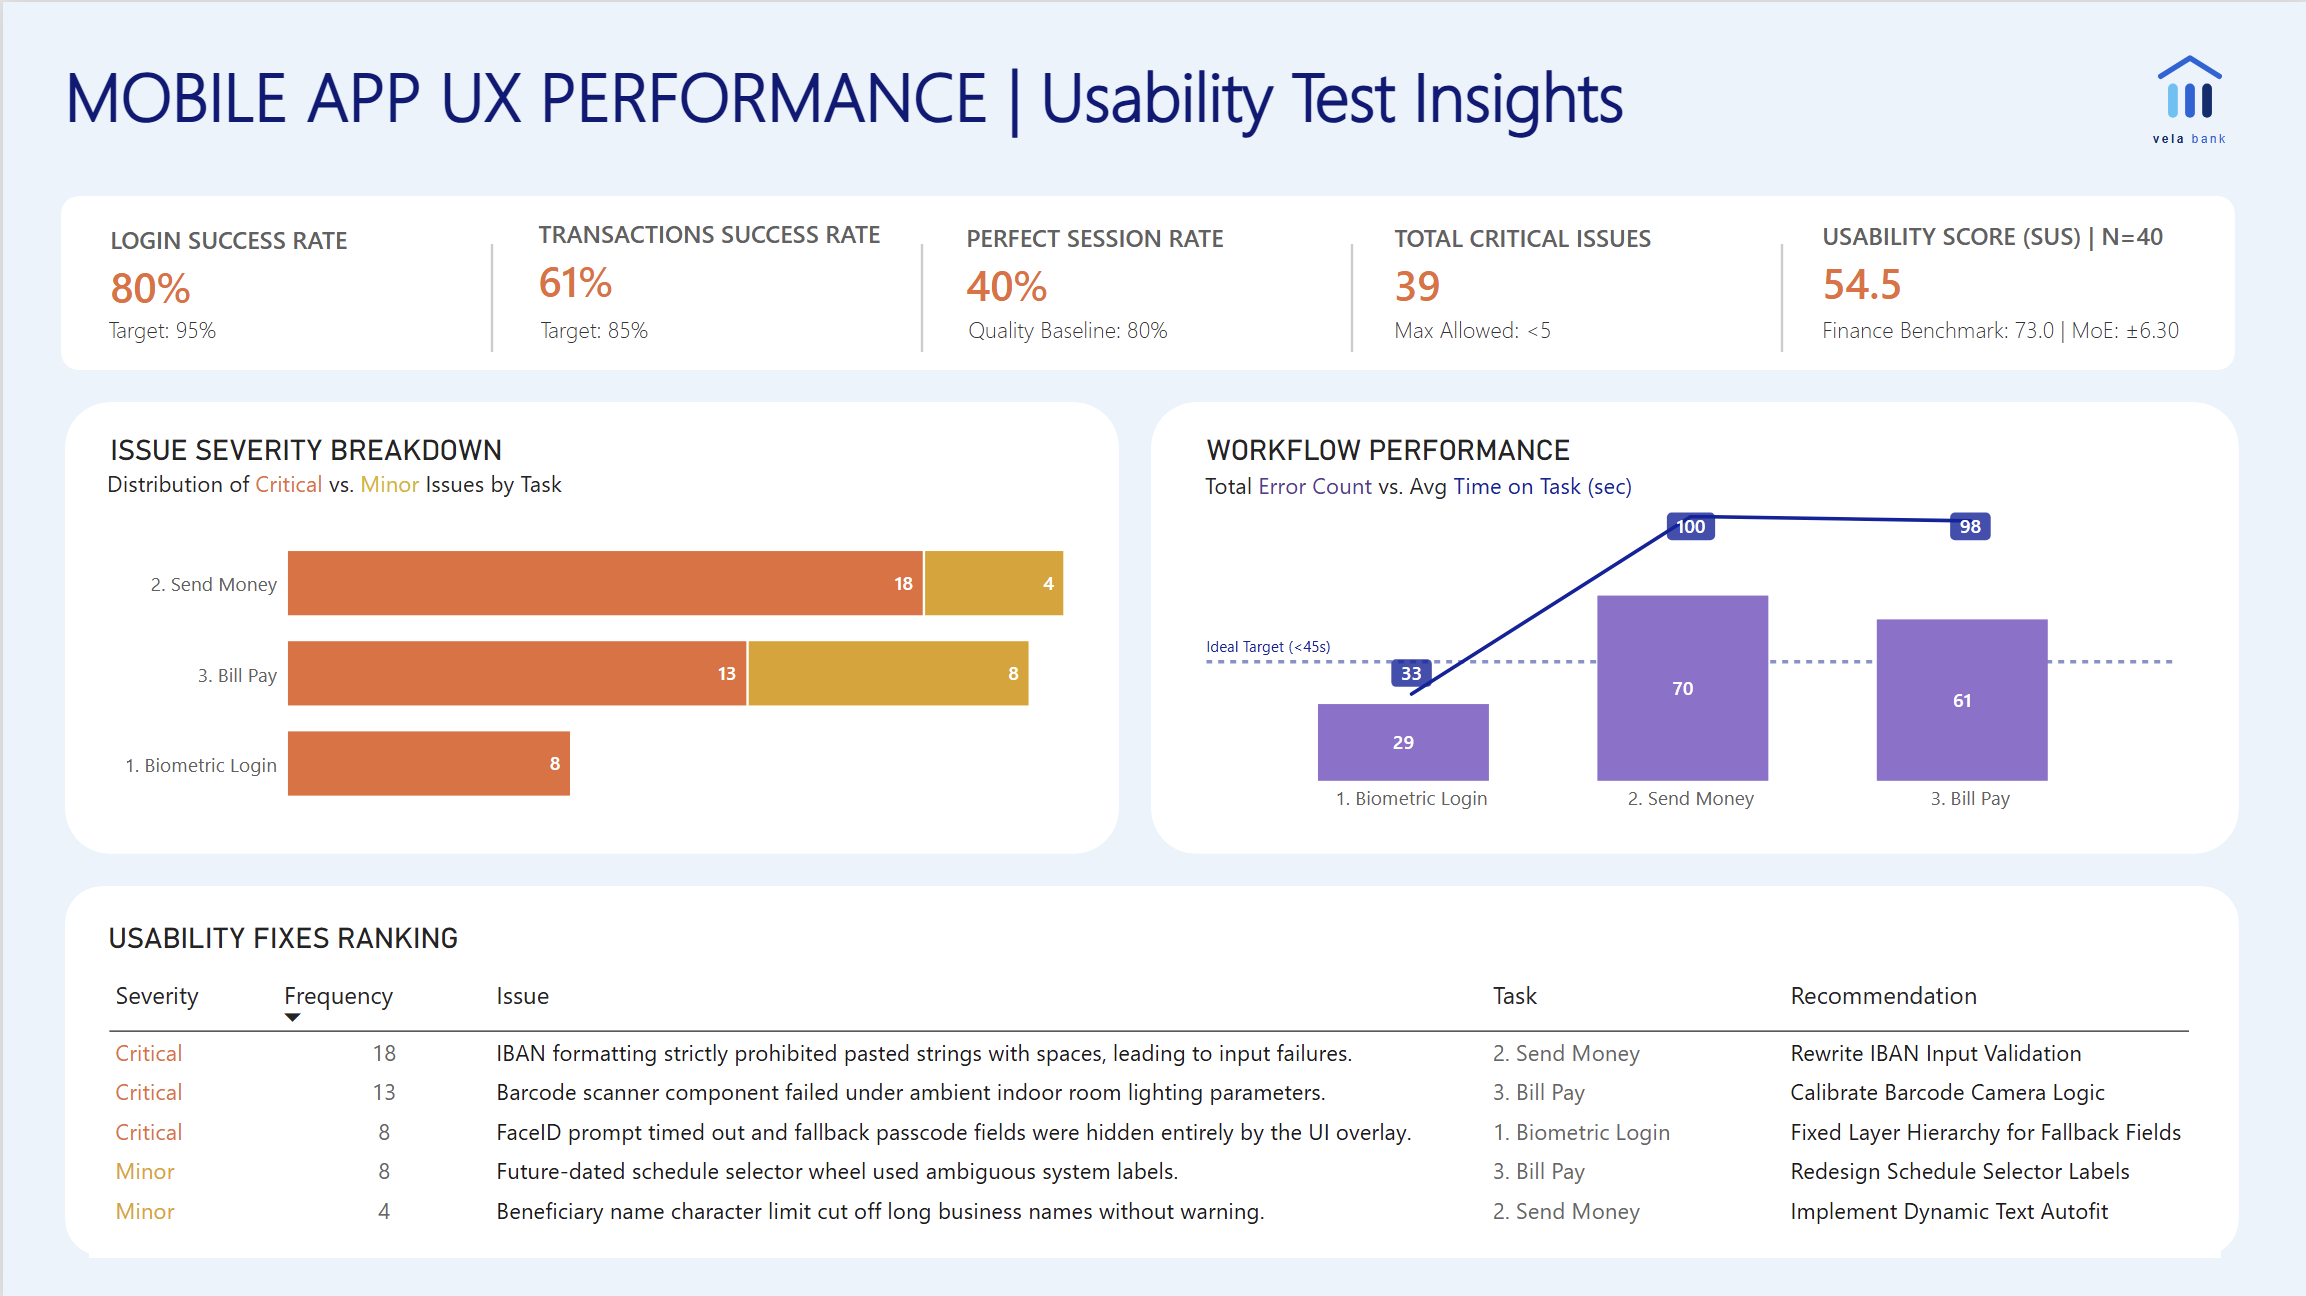

The dashboard page shown, as its layout file describes it:
{"tool":"powerbi","page":{"name":"Executive Summary","canvas":[1920,1080],"ordinal":0},"visuals":[{"type":"textbox","box":[52,38,1732,96],"z":0},{"type":"shape","box":[48.3,161.7,1811.7,145],"z":1000},{"type":"shape","box":[51,334.2,878.3,376.7],"z":2000},{"type":"shape","box":[956,333.3,906.7,376.7],"z":3000},{"type":"shape","box":[51,736.7,1811.7,308.3],"z":3000,"group":"g1"},{"type":"cardVisual","title":"TIME ON TASK","fields":{"Data":["task_performance.login_success_rate"]},"box":[73.2,180.2,326,85],"z":4000},{"type":"cardVisual","title":"TIME ON TASK","fields":{"Data":["task_performance.core_transaction_success_rate"]},"box":[430.2,175,326.7,85],"z":5000},{"type":"cardVisual","title":"TIME ON TASK","fields":{"Data":["task_performance.perfect_session_rate"]},"box":[787,177.6,326,85],"z":6000},{"type":"cardVisual","title":"TIME ON TASK","fields":{"Data":["task_performance.critical_issues_count"]},"box":[1143.2,178.9,326,85],"z":7000},{"type":"barChart","title":"ISSUE SEVERITY BREAKDOWN","fields":{"Category":["tasks.task_name"],"Series":["qualitative_insights.severity"],"Y":["CountNonNull(qualitative_insights.insight_id)"]},"box":[72.7,345,826.7,365],"z":8000},{"type":"lineStackedColumnComboChart","title":"WORKFLOW PERFORMANCE","fields":{"Category":["tasks.task_name"],"Y":["Sum(task_performance.error_count)1"],"Y2":["Avg(task_performance.time_on_task_sec)"]},"box":[986,345,840,350],"z":9000},{"type":"cardVisual","title":"TIME ON TASK","fields":{"Data":["SUS_scores.SUS Display"]},"box":[1499.3,176.3,326,85],"z":10000},{"type":"cardVisual","fields":{"Data":["task_performance.target_login"]},"box":[71.8,246.7,326,50],"z":11000},{"type":"tableEx","title":"USABILITY FIXES RANKING","fields":{"Values":["qualitative_insights.severity","CountNonNull(qualitative_insights.issue_description)","qualitative_insights.issue_description","qualitative_insights.task_name","recommendations.recommendation"]},"box":[71,752.3,1776.7,295],"z":11000,"group":"g1"},{"type":"cardVisual","fields":{"Data":["task_performance.target_transactions"]},"box":[431,246.7,326,50],"z":12000},{"type":"shape","box":[1426.7,853.4,381,34.9],"z":12000,"group":"g1"},{"type":"cardVisual","fields":{"Data":["task_performance.target_session"]},"box":[787.7,246.7,326,50],"z":13000},{"type":"shape","box":[1427,896.4,380.4,25.5],"z":13000,"group":"g1"},{"type":"cardVisual","fields":{"Data":["task_performance.target_SUS"]},"box":[1499.3,246.7,340,50],"z":14000},{"type":"shape","box":[1427,921.9,380.4,25.5],"z":14000,"group":"g1"},{"type":"shape","box":[364.3,201.7,85,90],"z":15000},{"type":"shape","box":[1426.7,958.2,381,31.7],"z":15000,"group":"g1"},{"type":"shape","box":[722.7,201.7,85,90],"z":16000},{"type":"shape","box":[1426.7,990,381,34.9],"z":16000,"group":"g1"},{"type":"shape","box":[1081,201.7,85,90],"z":17000},{"type":"shape","box":[1439.3,201.7,85,90],"z":18000},{"type":"textbox","box":[87,388.3,511.6,40],"z":19000},{"type":"textbox","box":[1002,390.3,511.6,40],"z":20000},{"type":"cardVisual","fields":{"Data":["task_performance.target_issues"]},"box":[1142.7,246.7,326,50],"z":21000},{"type":"image","box":[1760,34,125,95],"z":22000},{"type":"group","id":"g1","title":"Group 1","box":[51,736.7,1811.7,310.6],"z":23000},{"type":"textbox","box":[53,686.2,878,359],"z":24000}]}

Visuals, with their boxes in screenshot pixels (x1, y1, x2, y2), scaled from the page's 1920x1080 canvas onto the 2306x1296 screenshot:
textbox: 62/46/2143/161
shape: 58/194/2234/368
shape: 61/401/1116/853
shape: 1148/400/2237/852
shape: 61/884/2237/1254
"TIME ON TASK" cardVisual: 88/216/479/318
"TIME ON TASK" cardVisual: 517/210/909/312
"TIME ON TASK" cardVisual: 945/213/1337/315
"TIME ON TASK" cardVisual: 1373/215/1765/317
"ISSUE SEVERITY BREAKDOWN" barChart: 87/414/1080/852
"WORKFLOW PERFORMANCE" lineStackedColumnComboChart: 1184/414/2193/834
"TIME ON TASK" cardVisual: 1801/212/2192/314
cardVisual - task_performance.target_login: 86/296/478/356
"USABILITY FIXES RANKING" tableEx: 85/903/2219/1257
cardVisual - task_performance.target_transactions: 518/296/909/356
shape: 1714/1024/2171/1066
cardVisual - task_performance.target_session: 946/296/1338/356
shape: 1714/1076/2171/1106
cardVisual - task_performance.target_SUS: 1801/296/2209/356
shape: 1714/1106/2171/1137
shape: 438/242/540/350
shape: 1714/1150/2171/1188
shape: 868/242/970/350
shape: 1714/1188/2171/1230
shape: 1298/242/1400/350
shape: 1729/242/1831/350
textbox: 104/466/719/514
textbox: 1203/468/1818/516
cardVisual - task_performance.target_issues: 1372/296/1764/356
image: 2114/41/2264/155
"Group 1" group: 61/884/2237/1257
textbox: 64/823/1118/1254
